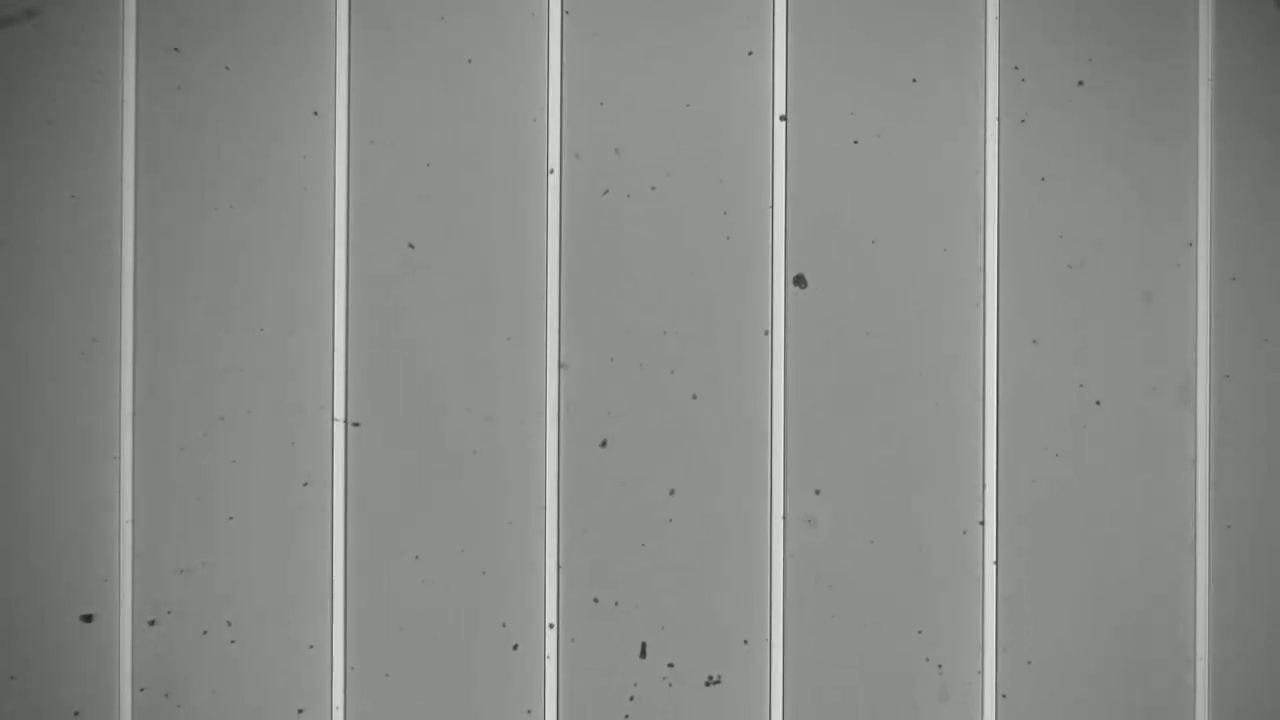stains_enbedded: (767, 106, 789, 125)
